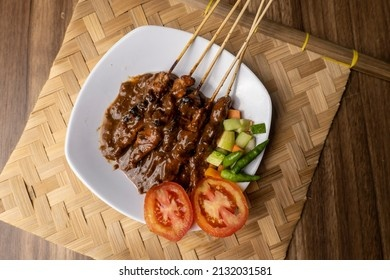sate_madura: (113, 2, 212, 174)
